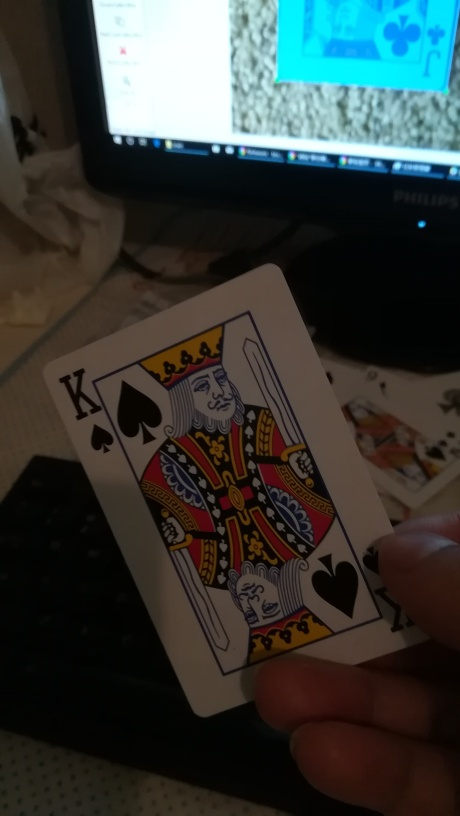ht k: (37, 260, 437, 718)
